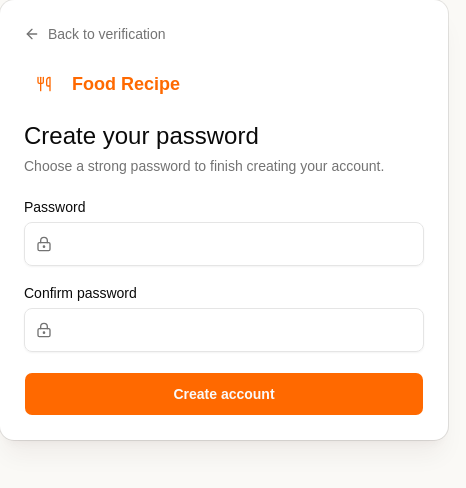
Test: shows an error when the password has no uppercase letter
Type "abcde@!12314" into the password field labelled "Password" at (224, 244), box [24, 222, 424, 266]
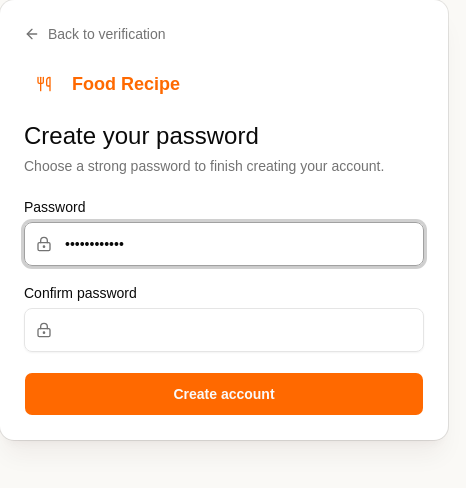
Type "abcde@!12314" into the password field labelled "Confirm password" at (224, 330), box [24, 308, 424, 352]
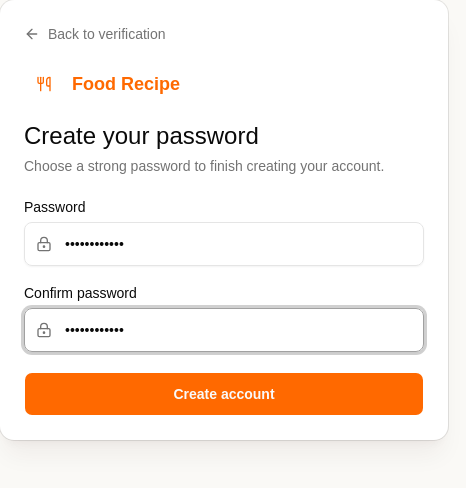
Click the button "Create account" at (224, 394), box [24, 372, 424, 416]
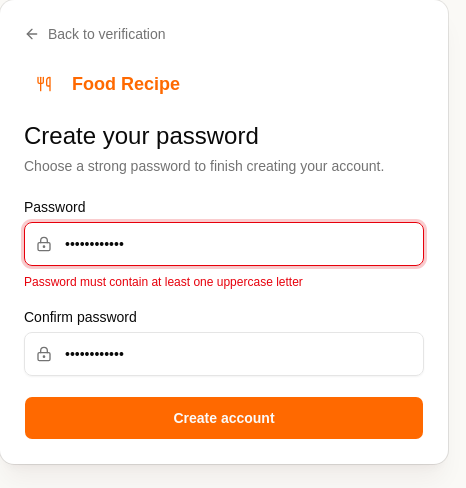
Expected: the text "Password must contain at least one uppercase letter" is shown, [24, 275, 303, 289]
